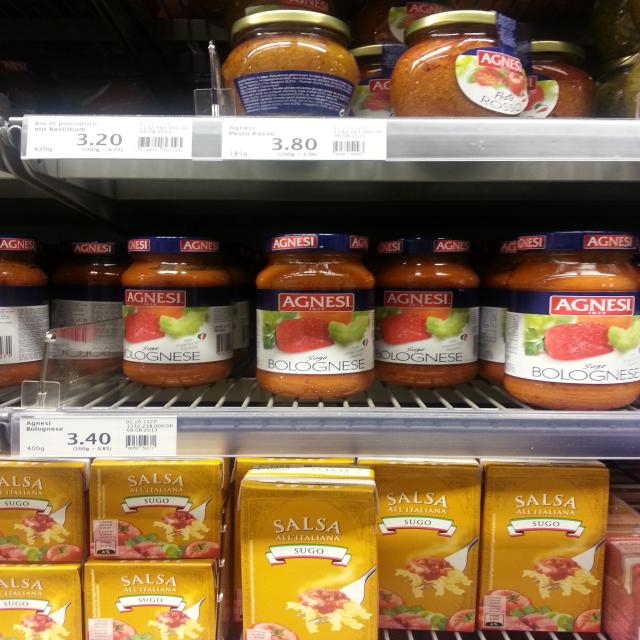Sauce: (241, 459, 381, 640), (509, 229, 640, 411), (481, 459, 618, 632), (360, 461, 483, 630), (250, 234, 375, 395), (118, 233, 239, 387), (376, 238, 487, 388), (394, 6, 527, 122), (220, 8, 360, 115), (89, 456, 228, 560), (83, 556, 236, 640), (0, 462, 87, 564), (58, 242, 121, 380), (0, 237, 53, 386), (517, 34, 594, 124), (0, 565, 86, 640)
